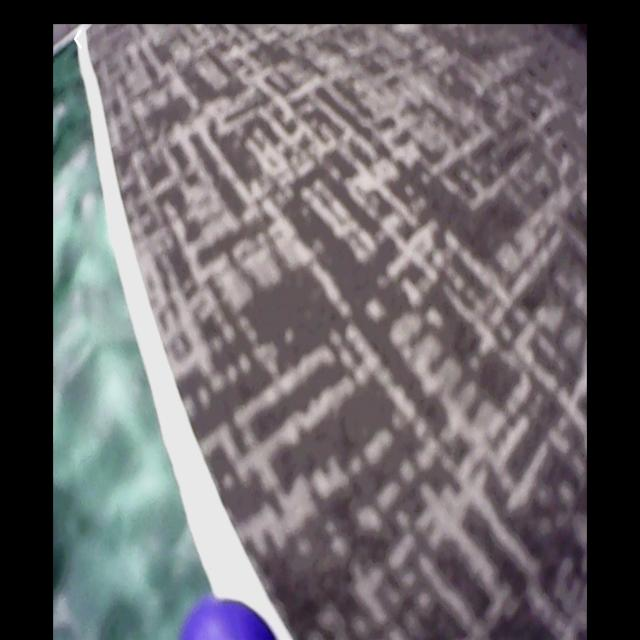ball: (181, 601, 277, 640)
